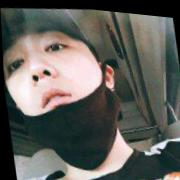WRONG: (1, 11, 113, 151)
